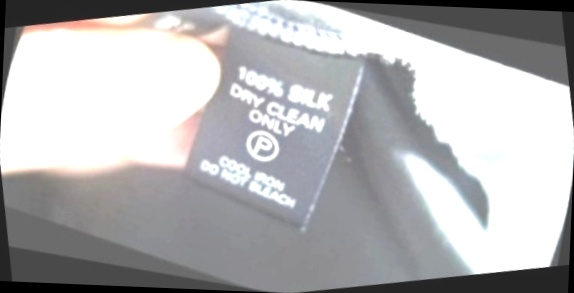dry_clean_any_solvent_except_trichloroethylene: (227, 110, 301, 182)
